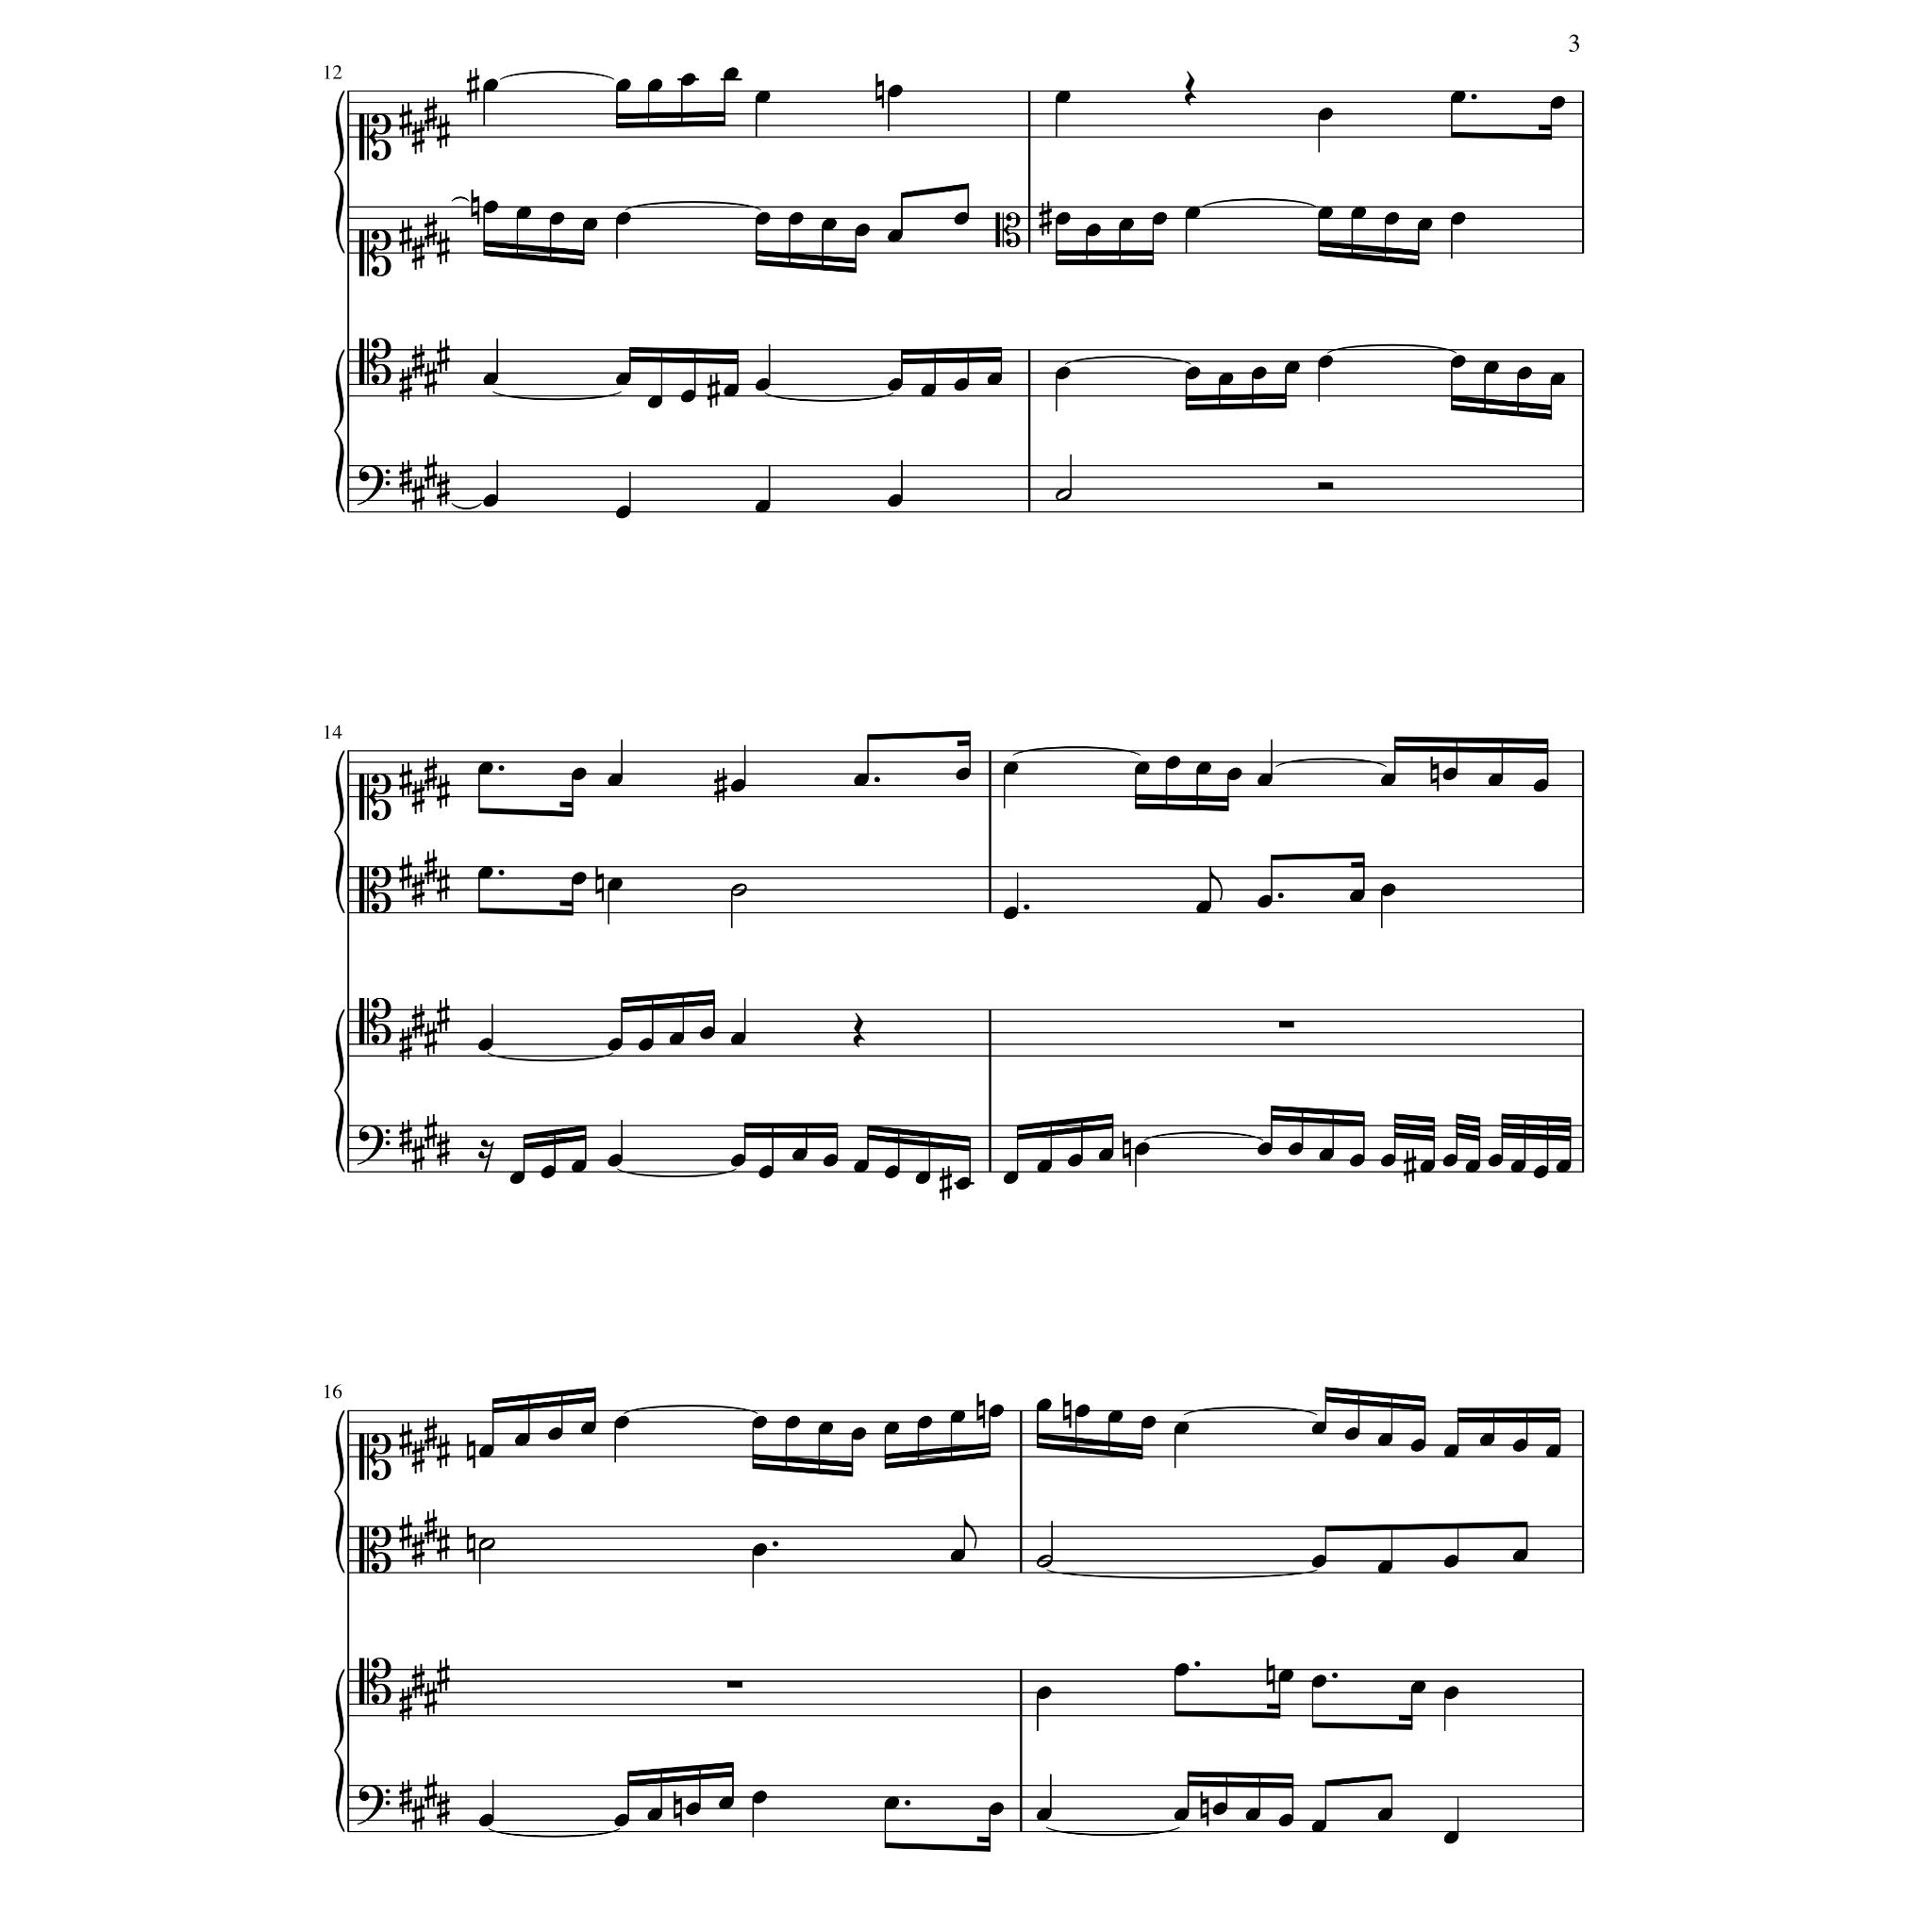brace: (333, 349, 344, 513), (333, 91, 344, 255), (333, 750, 344, 914), (333, 1669, 344, 1833), (333, 1410, 344, 1574), (333, 1009, 344, 1172)
fClef: (357, 1124, 391, 1166), (357, 466, 391, 506), (357, 1785, 391, 1824)
flag8thUp: (1209, 867, 1223, 901), (964, 1515, 977, 1549)
noteheadBlack: (1151, 211, 1168, 226), (1055, 211, 1072, 226), (1085, 223, 1102, 238), (1383, 211, 1400, 226), (615, 211, 632, 226), (887, 377, 904, 392), (953, 377, 970, 392), (953, 211, 970, 226), (1257, 1141, 1274, 1157), (1287, 1141, 1304, 1157), (1134, 1141, 1151, 1157), (1379, 883, 1396, 898), (1002, 1170, 1019, 1185), (1277, 1813, 1294, 1828), (1409, 1679, 1426, 1694), (613, 1813, 630, 1828), (579, 1421, 596, 1436), (477, 1813, 494, 1828), (817, 1421, 834, 1436), (1451, 211, 1466, 226), (549, 211, 564, 226), (855, 223, 870, 238), (789, 211, 804, 226), (755, 377, 770, 392), (755, 211, 770, 226), (509, 1170, 525, 1185), (915, 1170, 930, 1185), (1311, 1421, 1326, 1436), (1174, 1421, 1189, 1436), (884, 1421, 899, 1436), (1317, 356, 1334, 369), (1317, 207, 1334, 220), (1317, 108, 1334, 121), (1217, 373, 1234, 386), (1055, 367, 1072, 380), (1055, 91, 1072, 104), (1549, 373, 1566, 386), (1549, 96, 1566, 109), (1483, 361, 1500, 375), (615, 506, 632, 519), (615, 373, 632, 386), (615, 79, 632, 92), (581, 218, 598, 231), (515, 207, 532, 220), (679, 390, 696, 403), (679, 74, 696, 87), (887, 494, 904, 508), (887, 229, 904, 242), (887, 85, 904, 98), (723, 384, 740, 397), (723, 68, 740, 81), (1257, 895, 1274, 908), (1257, 774, 1274, 787), (1226, 768, 1243, 781), (1349, 1154, 1366, 1167), (1349, 890, 1366, 903), (1036, 1159, 1053, 1173), (1164, 756, 1181, 769), (1134, 762, 1151, 775), (1555, 1159, 1572, 1173), (1532, 1165, 1549, 1178), (1532, 779, 1549, 792), (1441, 1154, 1458, 1167), (1441, 768, 1458, 781), (1419, 1159, 1436, 1173), (1379, 1154, 1396, 1167), (1379, 774, 1396, 787), (1487, 774, 1504, 787), (1509, 1159, 1526, 1173), (1487, 1154, 1504, 1167), (1464, 1159, 1481, 1173), (540, 1165, 557, 1178), (668, 1032, 685, 1045), (477, 1038, 494, 1051), (477, 866, 494, 879), (477, 762, 494, 775), (883, 1165, 900, 1178), (853, 774, 870, 787), (1002, 907, 1019, 920), (1002, 762, 1019, 775), (853, 1159, 870, 1173), (955, 1177, 972, 1191), (955, 768, 972, 781), (791, 1148, 808, 1161), (1277, 1669, 1294, 1682), (1343, 1427, 1360, 1441), (1140, 1416, 1157, 1429), (1074, 1404, 1091, 1417), (1211, 1802, 1228, 1815), (1511, 1549, 1528, 1562), (1511, 1439, 1528, 1452), (1409, 1439, 1426, 1452), (613, 1416, 630, 1429), (513, 1433, 530, 1446), (751, 1543, 768, 1557), (751, 1416, 768, 1429), (685, 1802, 702, 1815), (751, 1790, 768, 1804), (477, 1444, 494, 1457), (949, 1549, 966, 1562), (949, 1410, 966, 1424), (1119, 218, 1134, 231), (1185, 207, 1200, 220), (1185, 367, 1200, 380), (1285, 361, 1300, 375), (1251, 367, 1266, 380), (987, 373, 1002, 386), (1417, 218, 1432, 231), (1351, 207, 1366, 220), (1517, 367, 1532, 380), (1451, 356, 1466, 369), (1451, 91, 1466, 104), (647, 395, 662, 408), (647, 79, 662, 92), (483, 494, 498, 508), (483, 373, 498, 386), (483, 201, 498, 214), (483, 79, 498, 92), (821, 218, 836, 231), (921, 384, 936, 397), (755, 500, 770, 513), (755, 91, 770, 104), (1196, 901, 1211, 914), (1319, 1148, 1334, 1161), (1068, 1154, 1083, 1167), (1196, 762, 1211, 775), (1098, 1148, 1113, 1161), (608, 774, 623, 787), (608, 877, 623, 891), (608, 1038, 623, 1051), (572, 1159, 587, 1173), (572, 872, 587, 885), (572, 768, 587, 781), (638, 1038, 653, 1051), (608, 1154, 623, 1167), (758, 1165, 774, 1178), (730, 1032, 745, 1045), (730, 1154, 745, 1167), (700, 1026, 715, 1040), (730, 779, 745, 792), (823, 1154, 838, 1167), (1311, 1674, 1326, 1688), (1311, 1555, 1326, 1568), (1245, 1807, 1260, 1821), (1311, 1820, 1326, 1833), (1108, 1410, 1123, 1424), (1174, 1807, 1189, 1821), (1174, 1663, 1189, 1676), (1545, 1444, 1560, 1457), (1377, 1807, 1392, 1821), (1377, 1560, 1392, 1574), (1479, 1433, 1494, 1446), (1377, 1433, 1392, 1446), (1443, 1831, 1458, 1844), (1443, 1686, 1458, 1699), (1443, 1555, 1458, 1568), (1443, 1444, 1458, 1457), (647, 1807, 662, 1821), (547, 1427, 562, 1441), (719, 1796, 734, 1809), (989, 1802, 1004, 1815), (989, 1404, 1004, 1417), (1036, 1807, 1051, 1821), (1036, 1686, 1051, 1699), (1036, 1398, 1051, 1411), (851, 1427, 866, 1441), (917, 1416, 932, 1429), (785, 1416, 800, 1429), (884, 1796, 899, 1809)
noteheadHalf: (730, 883, 747, 898), (1055, 489, 1072, 502), (478, 1538, 495, 1551), (1036, 1555, 1053, 1568)
rest16th: (477, 1140, 494, 1172)
restHalf: (1317, 482, 1334, 490)
restQuarter: (853, 1012, 866, 1048), (1185, 71, 1196, 107)
restWhole: (1277, 1021, 1294, 1028), (726, 1681, 741, 1689)
